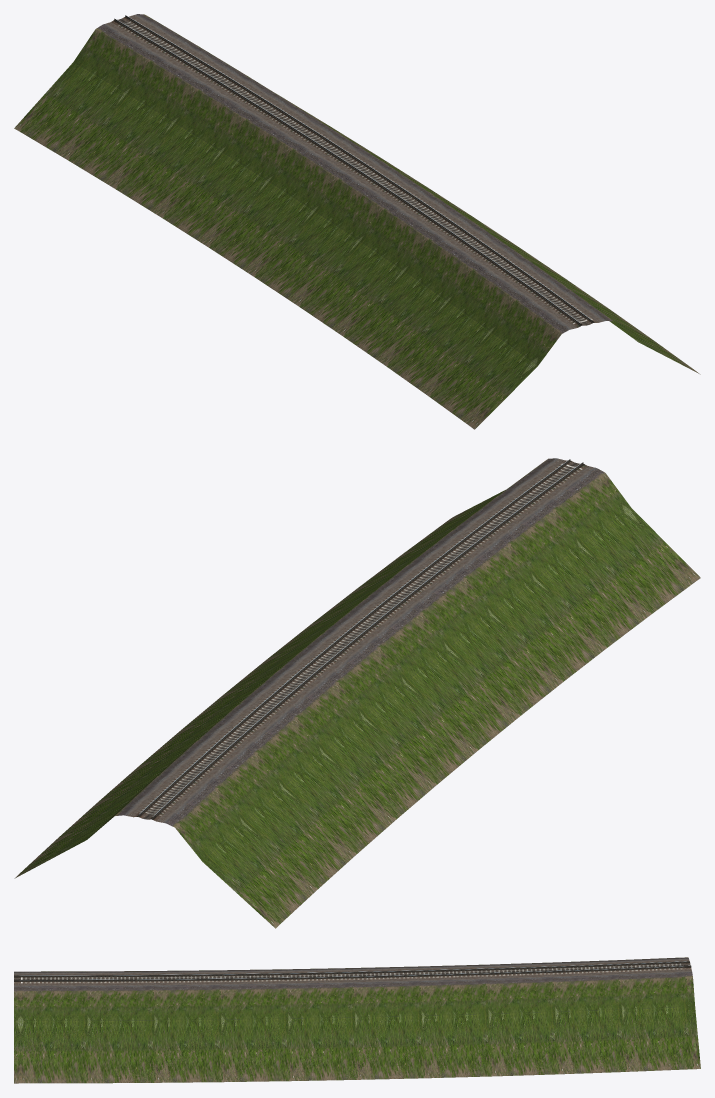
The model's file is tracks_1track1000l.gltf.
3 renders of one model, top to bottom at view 1: azimuth 30°, elevation 25°; view 2: azimuth 150°, elevation 25°; view 3: azimuth 270°, elevation 25°, orthographic. The views are drawn at different scales.
Parts seen in each view (by area): view 1: tracks_1track1000l; view 2: tracks_1track1000l; view 3: tracks_1track1000l.
Boxes of the visible parts, bbox=[...] form: tracks_1track1000l: bbox=[14, 14, 700, 429]; tracks_1track1000l: bbox=[14, 458, 700, 928]; tracks_1track1000l: bbox=[14, 957, 700, 1083].
Bounding box in the file's own units: 35.9 × 10.36 × 103.
1 material, 1 textured.
